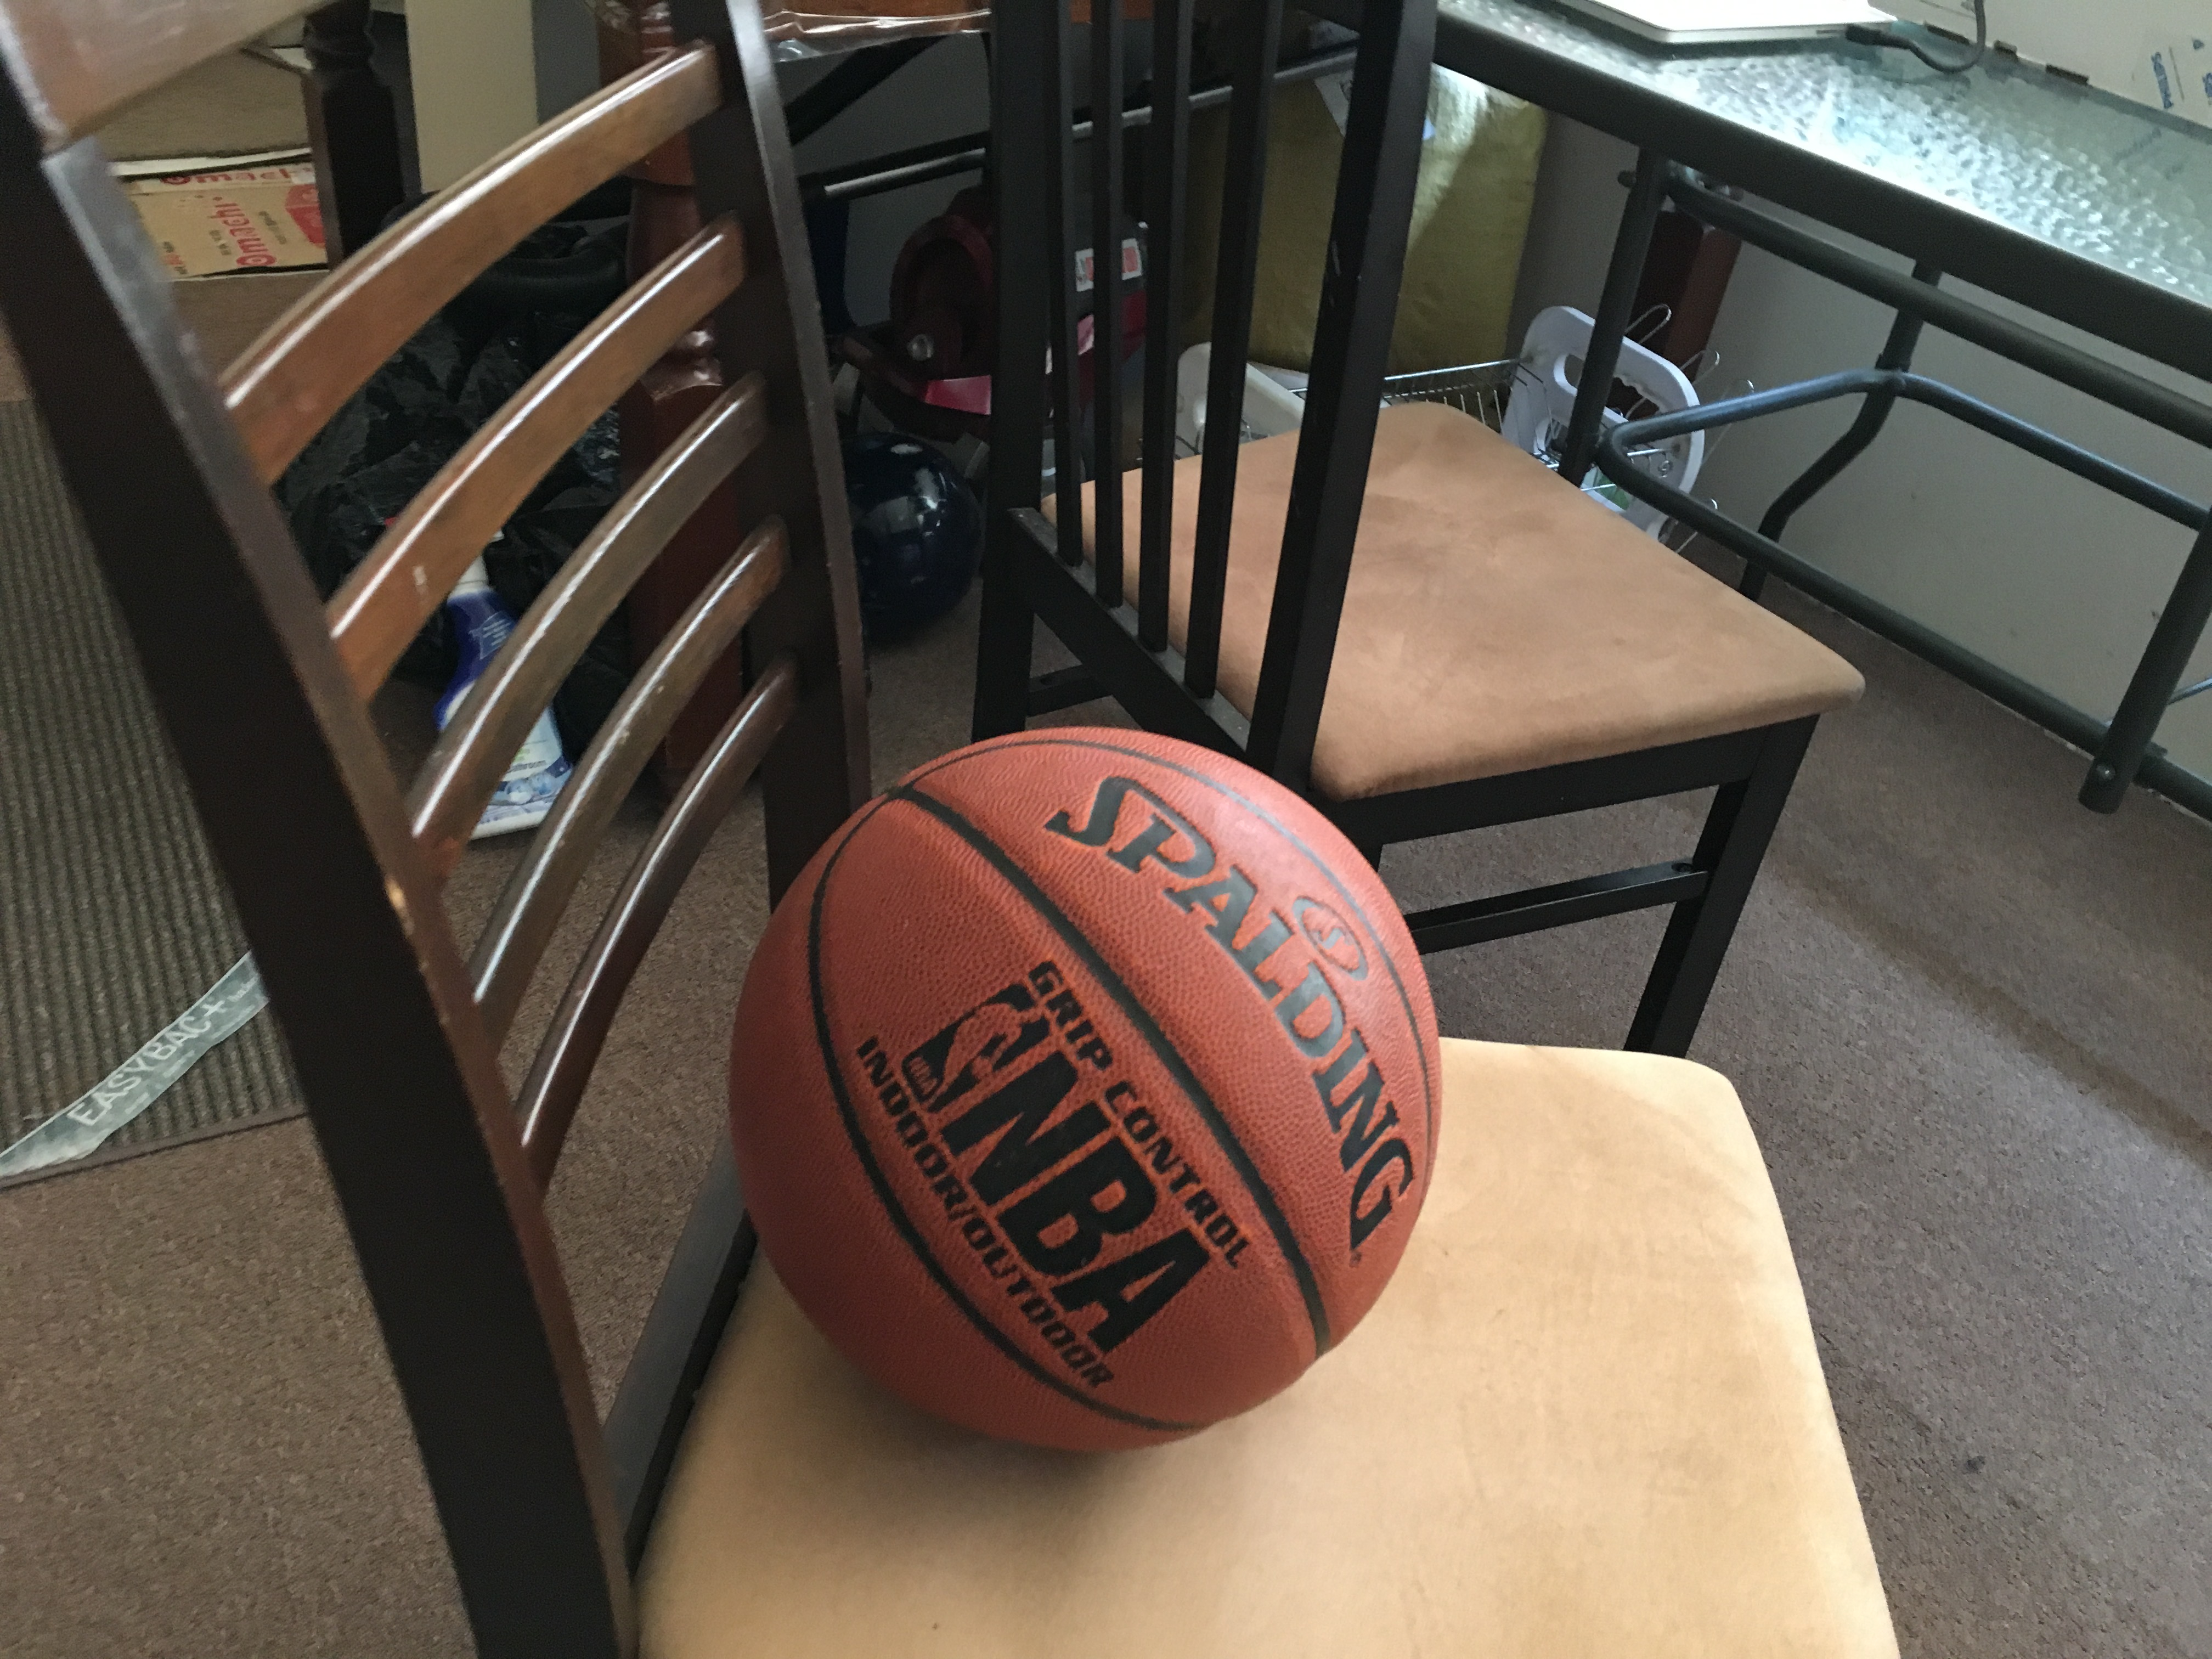Basketball: (725, 716, 1467, 1473)
